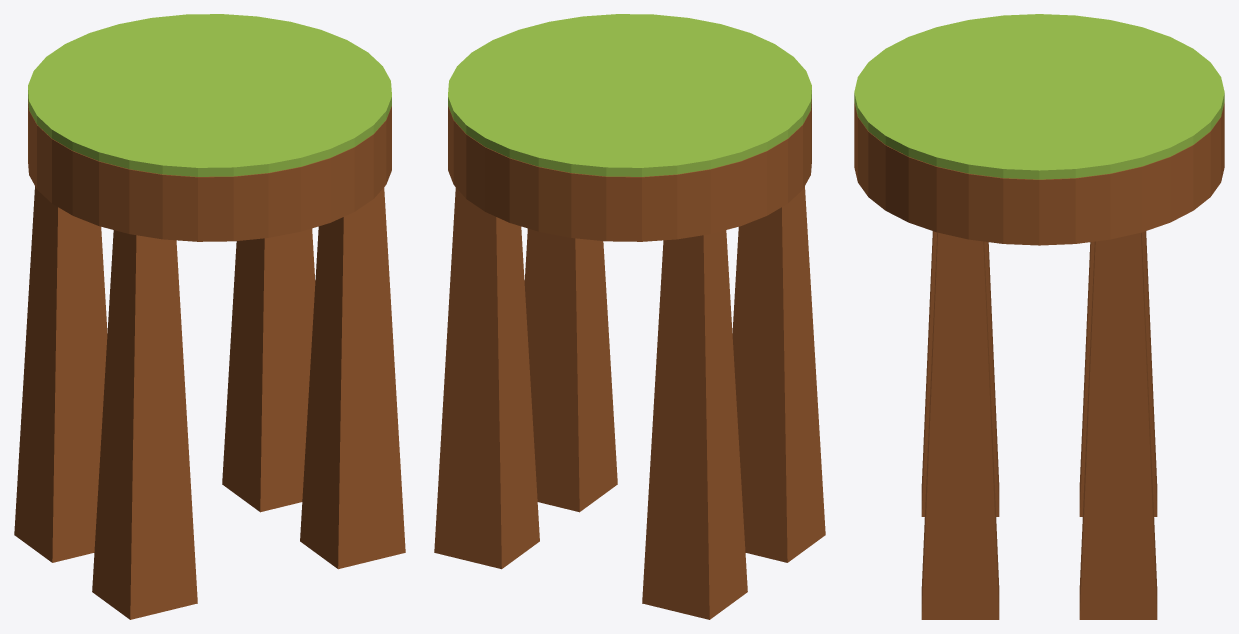
Rendered from Asset_stool.fbx.
The picture shows the model from 3 angles, left to right: view 1: azimuth 30°, elevation 25°; view 2: azimuth 150°, elevation 25°; view 3: azimuth 270°, elevation 25°; orthographic projection.
Visible parts, largest first — view 1: Cube.054, Cylinder.032, Cylinder.028; view 2: Cube.054, Cylinder.032, Cylinder.028; view 3: Cube.054, Cylinder.032, Cylinder.028.
Boxes of the visible parts, x1=… form: Cube.054: x1=14, y1=186, x2=405, y2=619; Cylinder.032: x1=28, y1=14, x2=391, y2=176; Cylinder.028: x1=28, y1=99, x2=391, y2=241; Cube.054: x1=434, y1=186, x2=825, y2=619; Cylinder.032: x1=448, y1=14, x2=811, y2=176; Cylinder.028: x1=448, y1=99, x2=811, y2=241; Cube.054: x1=921, y1=231, x2=1157, y2=619; Cylinder.032: x1=854, y1=14, x2=1224, y2=179; Cylinder.028: x1=854, y1=102, x2=1224, y2=245.
Size of the model in its own units: 21.76 by 29.79 by 21.76.
Materials: 2 (2 with a texture image).
